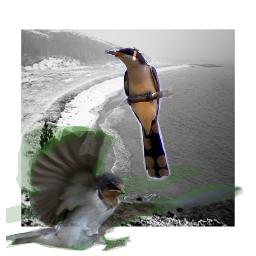Cuckoo: (105, 47, 172, 181)
Swallow: (6, 126, 243, 251)
